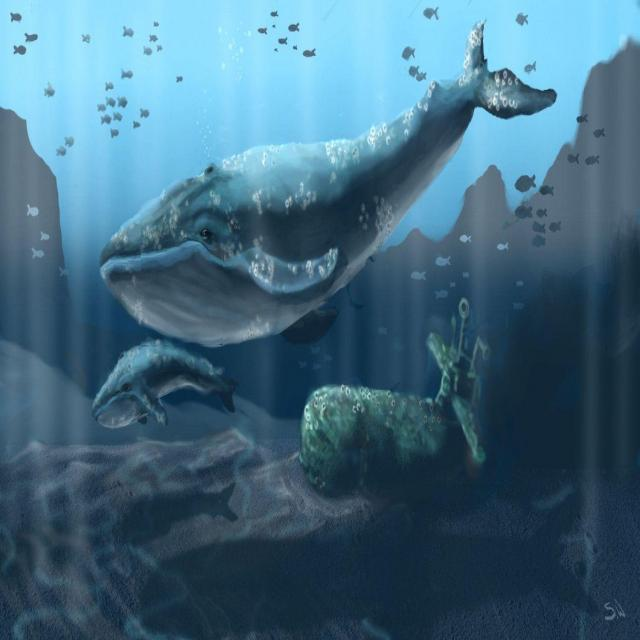blue_whale: (74, 56, 568, 338), (307, 366, 563, 544), (74, 328, 274, 518)
